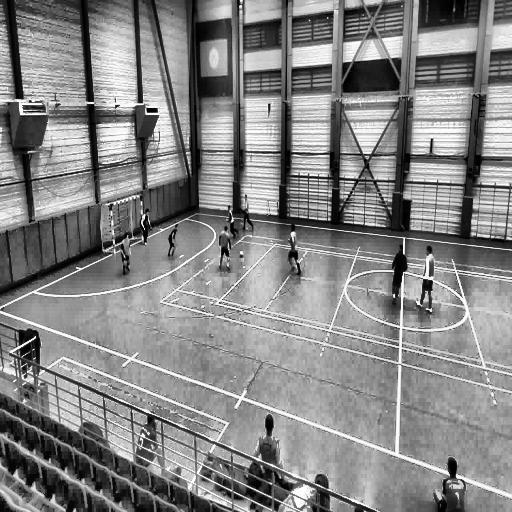ball: (238, 249, 244, 259)
player: (416, 244, 434, 312), (390, 243, 408, 305), (286, 223, 302, 276), (219, 224, 233, 270), (223, 204, 240, 240), (242, 192, 255, 231), (167, 222, 179, 258), (121, 233, 131, 275), (140, 208, 151, 246)
